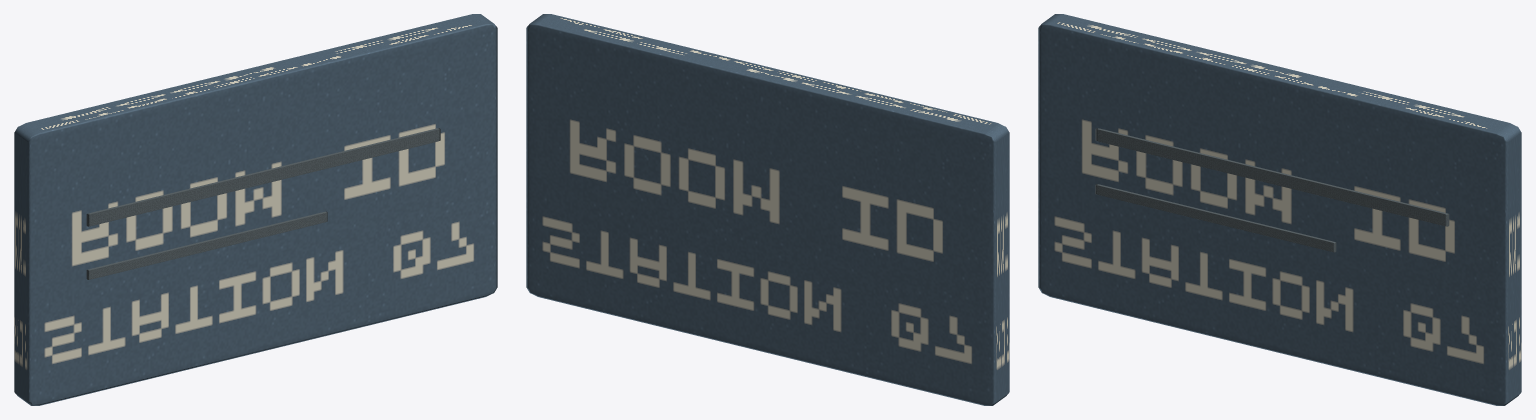
Rendered from room-id.glb.
3 renders of one model, left to right at view 1: azimuth 30°, elevation 25°; view 2: azimuth 150°, elevation 25°; view 3: azimuth 330°, elevation 25°, orthographic.
Visible parts, largest first — view 1: board, stripe, line; view 2: board; view 3: board, stripe, line.
Boxes of the visible parts, bbox=[...] form: board: bbox=[14, 14, 497, 405]; stripe: bbox=[86, 128, 440, 226]; line: bbox=[86, 211, 327, 279]; board: bbox=[526, 14, 1009, 405]; board: bbox=[1038, 14, 1521, 405]; stripe: bbox=[1095, 128, 1449, 226]; line: bbox=[1095, 184, 1336, 252].
Size of the model in its own units: 0.18 by 0.1 by 0.0102.
Materials: 2 (2 with a texture image).
